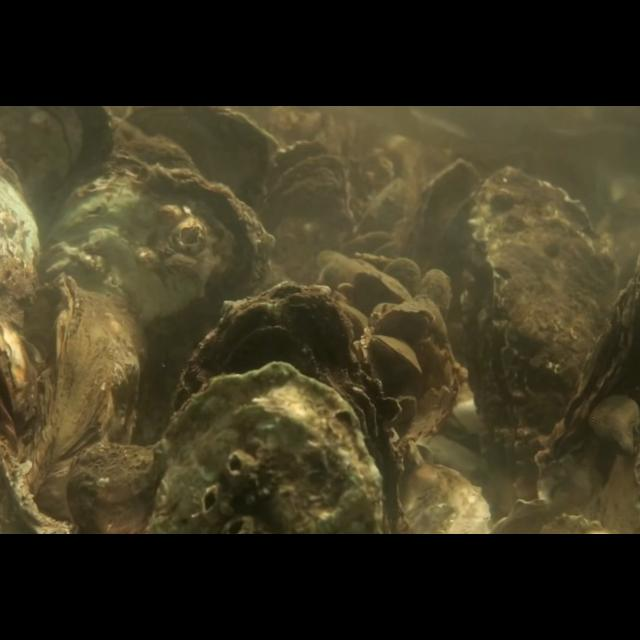Oyster-Closed: (45, 162, 274, 438), (172, 280, 402, 534), (144, 362, 383, 534), (28, 274, 142, 534), (402, 156, 482, 312), (353, 268, 413, 304), (382, 256, 422, 304), (378, 306, 436, 338), (418, 268, 452, 318)
Oyster-Open: (456, 164, 614, 460), (532, 251, 640, 501), (254, 139, 350, 281), (368, 334, 422, 376)
